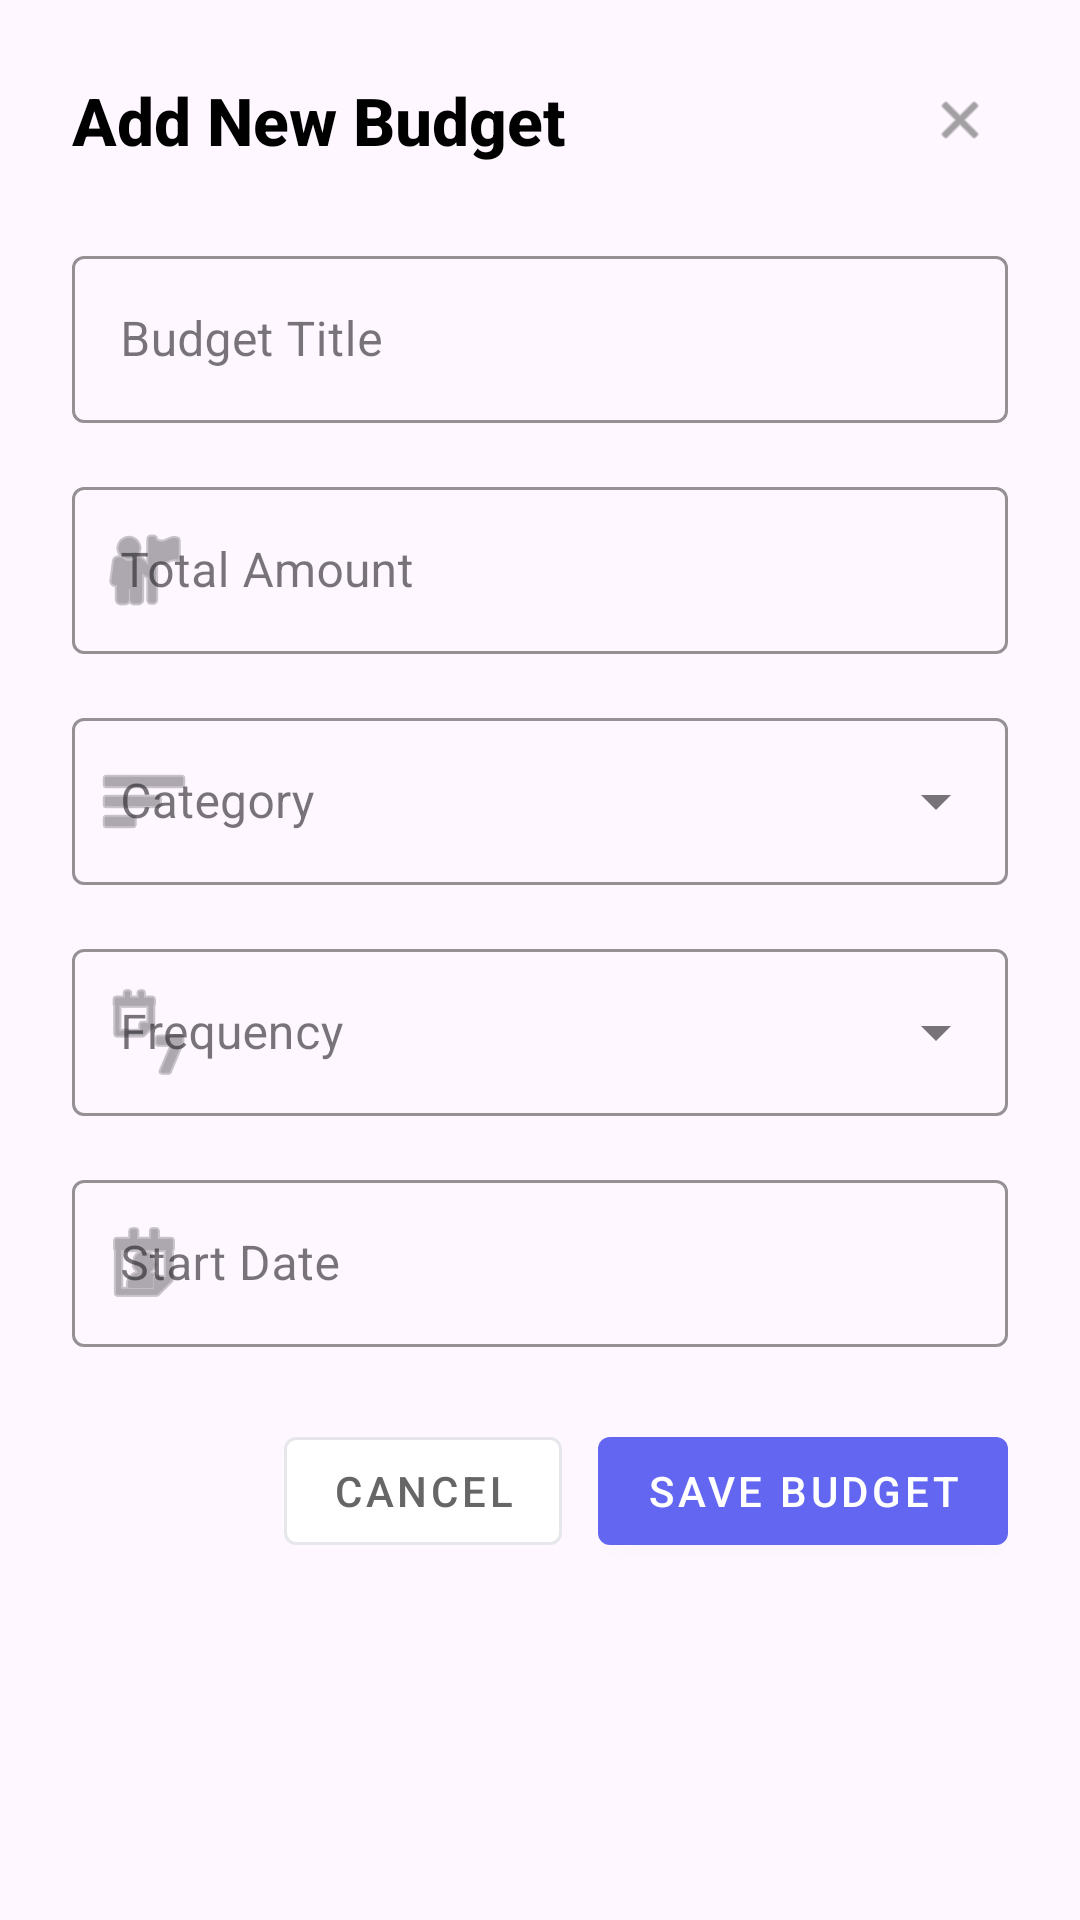

Named icons in this screenshot (1080px×1920px) and their bounding boxes, (x1, y1, x2, y2):
close clear cancel: (941, 101, 979, 139)
